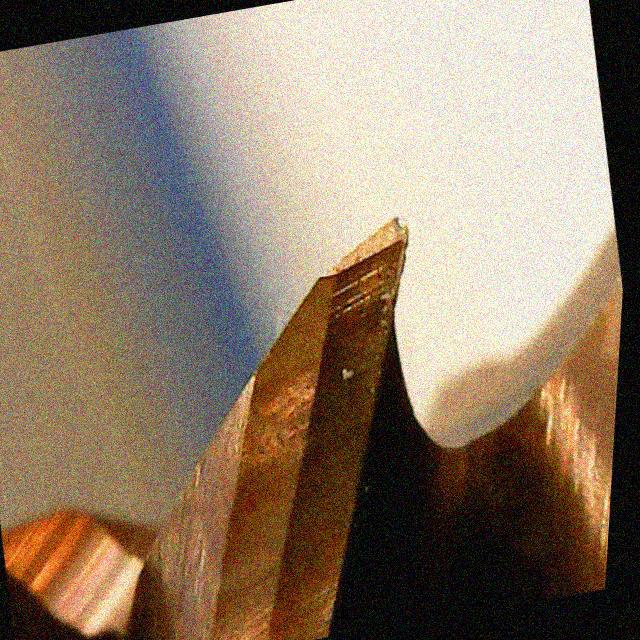Tool-wear-class-1: (248, 212, 444, 438)
